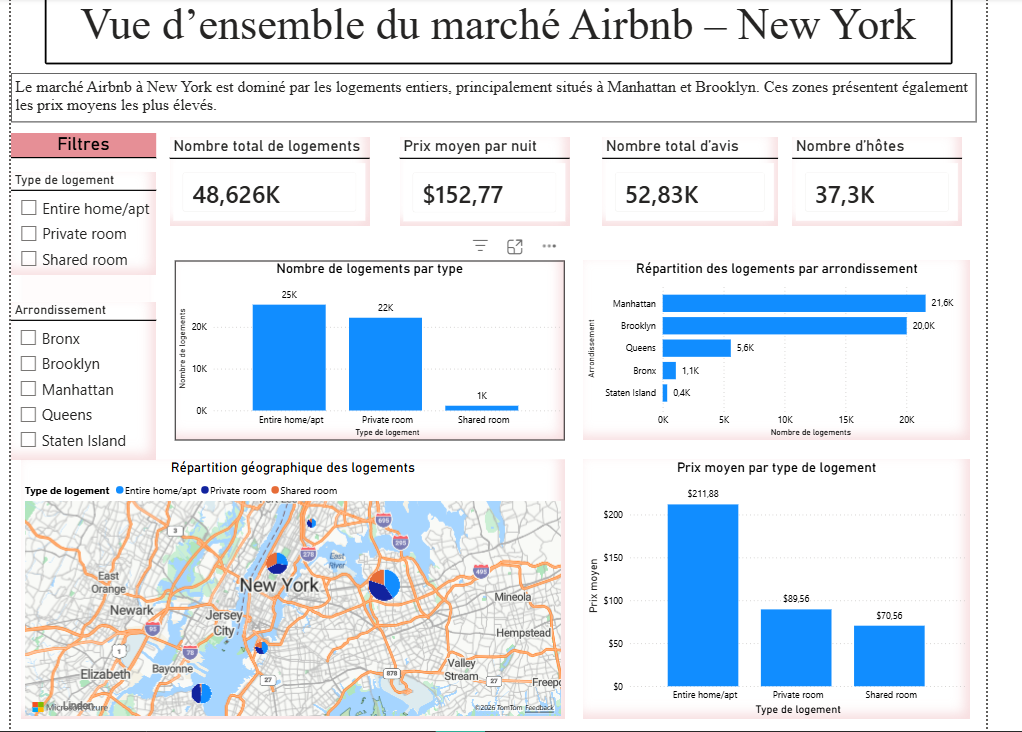

The dashboard page shown, as its layout file describes it:
{"tool":"powerbi","page":{"name":"Vue d’ensemble du marché Airbnb – New York","canvas":[1300,1000],"ordinal":0},"visuals":[{"type":"shape","title":"Filtres","box":[0,186.4,193.2,408.5],"z":0},{"type":"cardVisual","title":"Nombre total de logements","fields":{"Data":["Count(AB_NYC_2019 (2).id)"]},"box":[211.8,192.4,266,118],"z":1000},{"type":"cardVisual","title":"Prix moyen par nuit","fields":{"Data":["Avg(AB_NYC_2019 (2).price)"]},"box":[517.8,192.4,226.7,118.3],"z":2000},{"type":"cardVisual","title":"Nombre total d’avis","fields":{"Data":["Sum(AB_NYC_2019 (2).reviews_per_month)"]},"box":[787.8,192.4,234,118],"z":3000},{"type":"cardVisual","title":"Nombre d’hôtes","fields":{"Data":["Count(AB_NYC_2019 (2).host_id)"]},"box":[1041.8,192.4,226,118],"z":4000},{"type":"textbox","box":[45,0,1210,95],"z":5000},{"type":"clusteredColumnChart","title":"Nombre de logements par type","fields":{"Y":["CountNonNull(AB_NYC_2019 (2).id)"],"Category":["AB_NYC_2019 (2).room_type"]},"box":[218,356,520,240],"z":6000},{"type":"clusteredBarChart","title":"Répartition des logements par arrondissement","fields":{"Category":["AB_NYC_2019 (2).neighbourhood_group"],"Y":["CountNonNull(AB_NYC_2019 (2).id)"]},"box":[764,356,516,240],"z":7000},{"type":"clusteredColumnChart","title":"Prix moyen par type de logement","fields":{"Y":["Avg(AB_NYC_2019 (2).price)"],"Category":["AB_NYC_2019 (2).room_type"]},"box":[763.3,621.7,515,346.7],"z":8000},{"type":"azureMap","title":"Répartition géographique des logements","fields":{"Category":["AB_NYC_2019 (2).neighbourhood_group"],"Size":["Avg(AB_NYC_2019 (2).number_of_reviews)"],"Series":["AB_NYC_2019 (2).room_type"]},"box":[13.3,621.7,725,346.7],"z":9000},{"type":"slicer","title":"Arrondissement","fields":{"Values":["AB_NYC_2019 (2).neighbourhood_group"]},"box":[0,411.9,193.2,210.2],"z":10000},{"type":"slicer","title":"Type de logement","fields":{"Values":["AB_NYC_2019 (2).room_type"]},"box":[0,239,193.2,137.3],"z":11000},{"type":"textbox","box":[0,106.6,1286.9,65.6],"z":12000}]}

Visuals, with their boxes on the page's 1300x1000 design canvas (x1, y1, x2, y2). These are canvas units, not pixel positions in the 1022x732 screenshot, which may show the page scaled, cropped or inside an application window:
"Filtres" shape: <bbox>0, 186, 193, 595</bbox>
"Nombre total de logements" cardVisual: <bbox>212, 192, 478, 310</bbox>
"Prix moyen par nuit" cardVisual: <bbox>518, 192, 744, 311</bbox>
"Nombre total d’avis" cardVisual: <bbox>788, 192, 1022, 310</bbox>
"Nombre d’hôtes" cardVisual: <bbox>1042, 192, 1268, 310</bbox>
textbox: <bbox>45, 0, 1255, 95</bbox>
"Nombre de logements par type" clusteredColumnChart: <bbox>218, 356, 738, 596</bbox>
"Répartition des logements par arrondissement" clusteredBarChart: <bbox>764, 356, 1280, 596</bbox>
"Prix moyen par type de logement" clusteredColumnChart: <bbox>763, 622, 1278, 968</bbox>
"Répartition géographique des logements" azureMap: <bbox>13, 622, 738, 968</bbox>
"Arrondissement" slicer: <bbox>0, 412, 193, 622</bbox>
"Type de logement" slicer: <bbox>0, 239, 193, 376</bbox>
textbox: <bbox>0, 107, 1287, 172</bbox>
